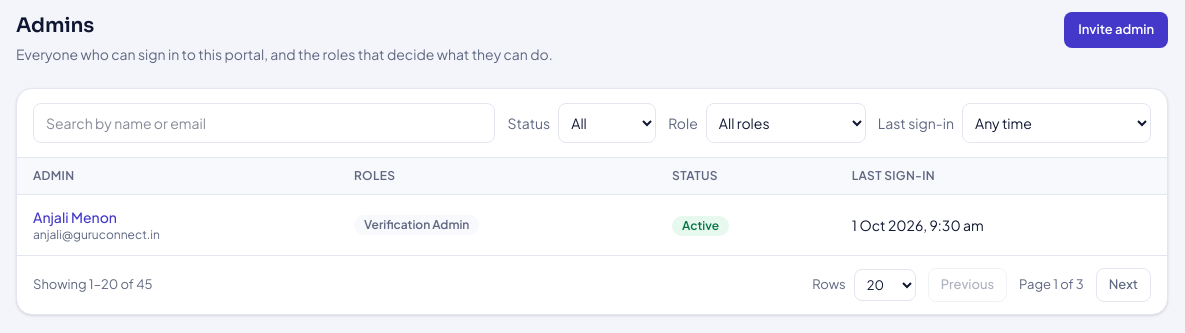
AdminsListPage › pages through the list
Expected: the text "Showing 1–20 of 45" is shown, [33,275,152,294]
Click the button "Next": click(1123, 285) [1096,268,1151,302]
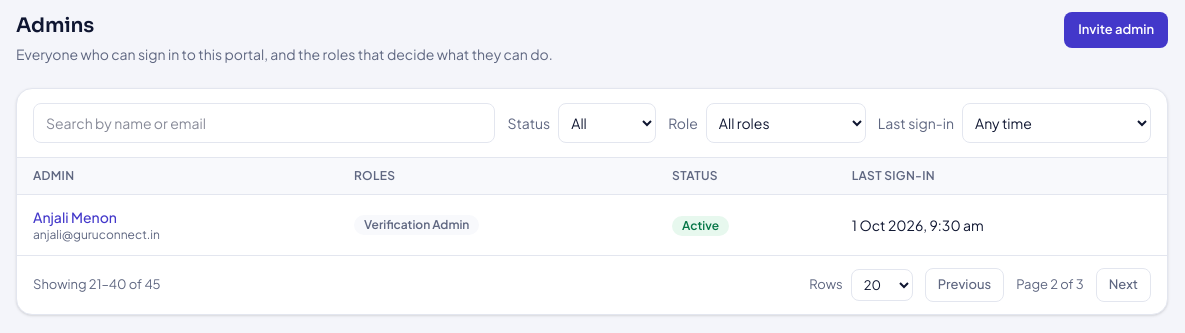
Result: the text "Page 2 of 3" is shown at [1016,275,1084,294]
